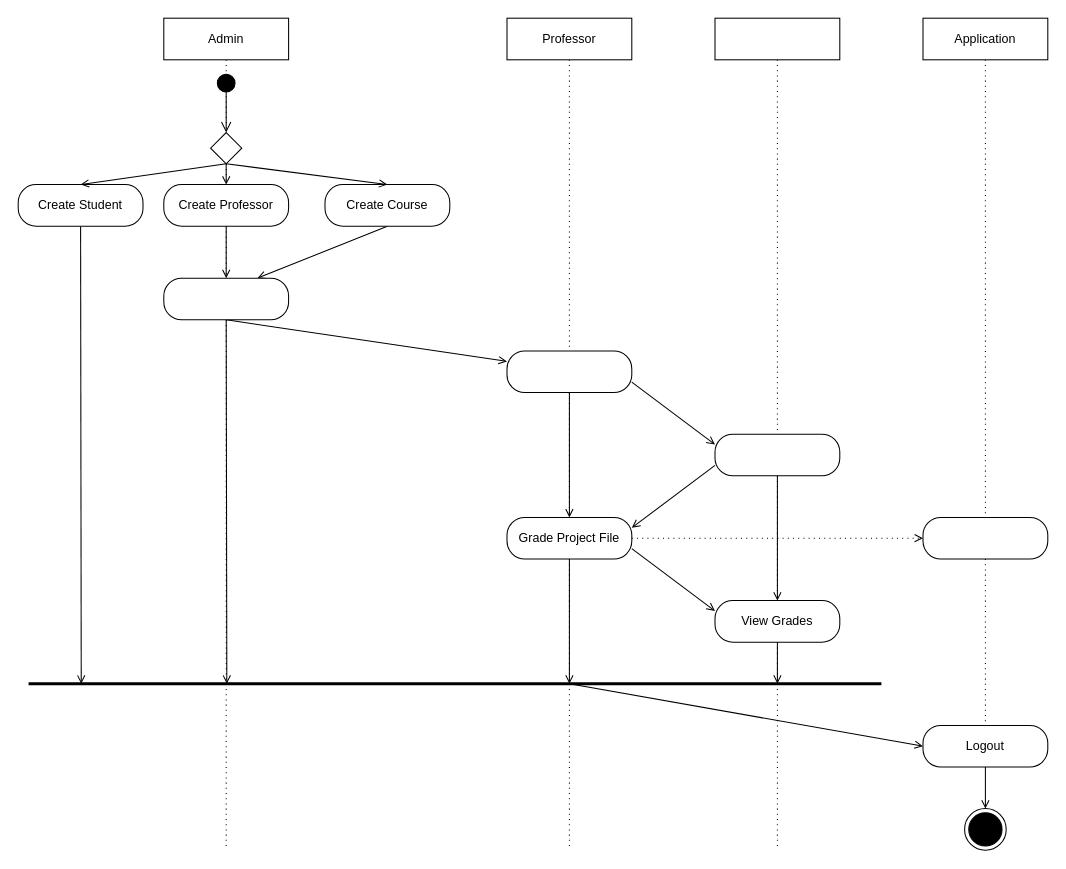
This 1066x869 diagram has some shape labels left out. The centre of each missing label's shape, as x and y in pixels:
"Assign Professor to Course" goes at [226,298].
"Calculate Total Project Grades" goes at [985,537].
"Create Project" goes at [569,371].
"Student" goes at [777,38].
"Upload Project File" goes at [777,454].
